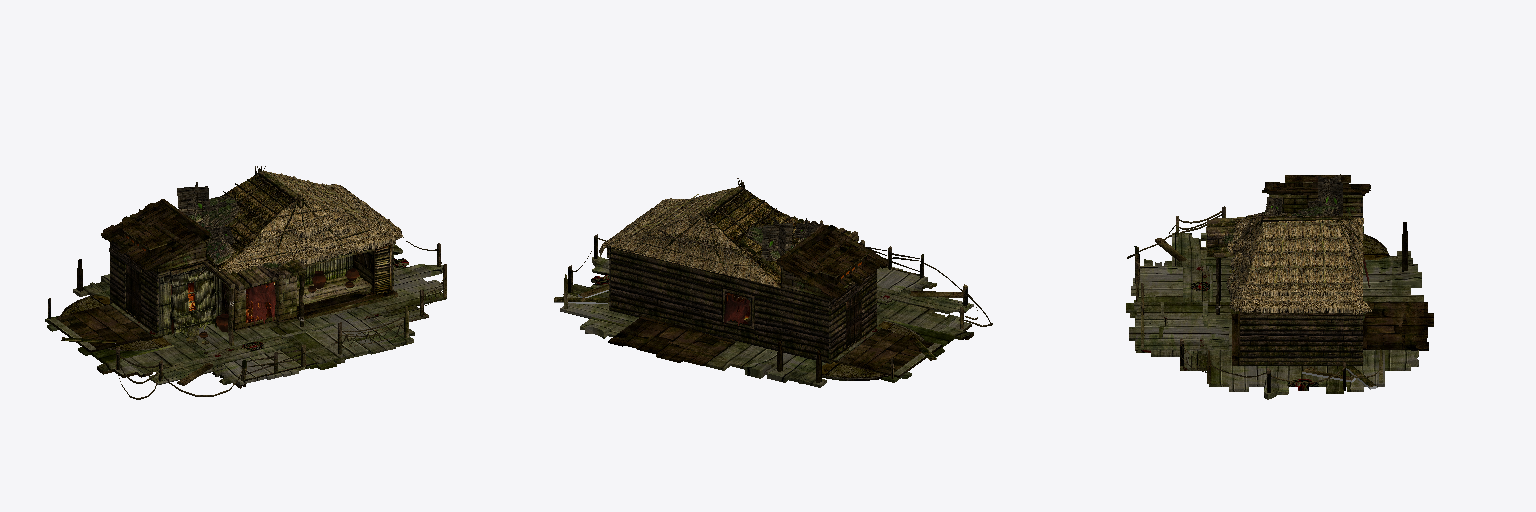
3 renders of one model, left to right at view 1: azimuth 30°, elevation 25°; view 2: azimuth 150°, elevation 25°; view 3: azimuth 270°, elevation 25°, orthographic.
Visible parts, largest first — view 1: Object_wood4.jpg, Object_wood5.jpg, Object_alpha.jpg, Object_a3.jpg, Object_a1_2.jpg, Object_wood1.jpg, Object_thatche2.jpg, Object_equip.jpg, Object_thatche1.jpg, Object_wood3.jpg, Object_demowood.jpg, Object_window.jpg (+1 smaller); view 2: Object_a3.jpg, Object_wood5.jpg, Object_wood4.jpg, Object_thatche2.jpg, Object_thatche1.jpg, Object_alpha.jpg, Object_demowood.jpg, Object_wood1.jpg, Object_window.jpg, Object_equip.jpg, Object_wood3.jpg; view 3: Object_wood4.jpg, Object_a3.jpg, Object_thatche2.jpg, Object_alpha.jpg, Object_wood5.jpg, Object_wood1.jpg, Object_wood3.jpg, Object_equip.jpg.
Boxes of the visible parts, x1=… form: Object_wood4.jpg: x1=48, y1=244, x2=446, y2=384; Object_wood5.jpg: x1=48, y1=199, x2=396, y2=388; Object_alpha.jpg: x1=177, y1=182, x2=402, y2=320; Object_a3.jpg: x1=48, y1=166, x2=440, y2=381; Object_a1_2.jpg: x1=125, y1=244, x2=393, y2=337; Object_wood1.jpg: x1=65, y1=172, x2=446, y2=385; Object_thatche2.jpg: x1=219, y1=171, x2=392, y2=270; Object_equip.jpg: x1=117, y1=237, x2=444, y2=399; Object_thatche1.jpg: x1=206, y1=174, x2=293, y2=270; Object_wood3.jpg: x1=114, y1=241, x2=391, y2=294; Object_demowood.jpg: x1=45, y1=295, x2=173, y2=363; Object_window.jpg: x1=126, y1=236, x2=274, y2=333; Object_a3.jpg: x1=554, y1=178, x2=967, y2=378; Object_wood5.jpg: x1=608, y1=225, x2=973, y2=382; Object_wood4.jpg: x1=560, y1=256, x2=973, y2=387; Object_thatche2.jpg: x1=608, y1=188, x2=779, y2=287; Object_thatche1.jpg: x1=709, y1=189, x2=799, y2=287; Object_alpha.jpg: x1=599, y1=198, x2=817, y2=267; Object_demowood.jpg: x1=822, y1=319, x2=954, y2=382; Object_wood1.jpg: x1=564, y1=188, x2=962, y2=358; Object_window.jpg: x1=726, y1=262, x2=861, y2=346; Object_equip.jpg: x1=563, y1=238, x2=992, y2=326; Object_wood3.jpg: x1=781, y1=240, x2=861, y2=300; Object_wood4.jpg: x1=1126, y1=233, x2=1423, y2=399; Object_a3.jpg: x1=1134, y1=204, x2=1377, y2=392; Object_thatche2.jpg: x1=1237, y1=218, x2=1363, y2=302; Object_alpha.jpg: x1=1215, y1=174, x2=1371, y2=314; Object_wood5.jpg: x1=1232, y1=175, x2=1433, y2=365; Object_wood1.jpg: x1=1141, y1=182, x2=1382, y2=383; Object_wood3.jpg: x1=1207, y1=194, x2=1362, y2=257; Object_equip.jpg: x1=1127, y1=211, x2=1380, y2=383.
Bounding box in the file's own units: 2.5 × 0.8458 × 1.83.
Materials: 15 (13 with a texture image).